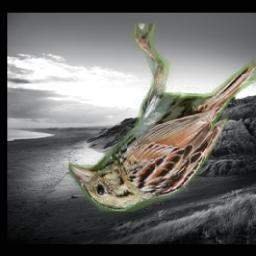Sparrow: (69, 24, 256, 212)
